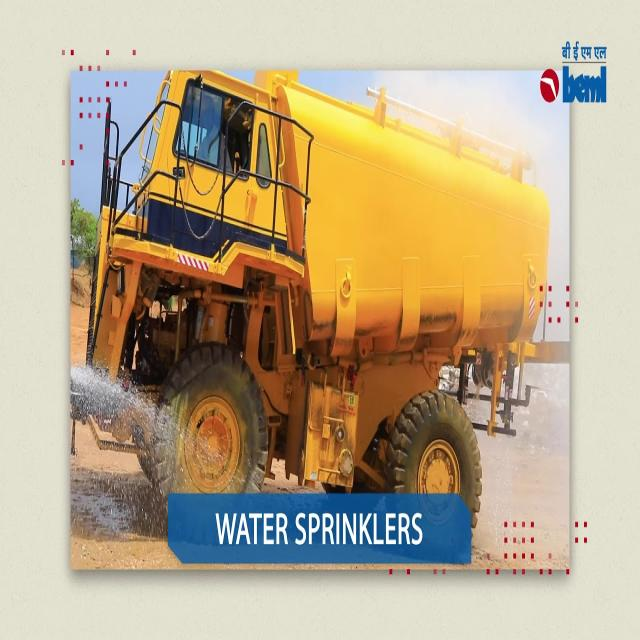dump_truck: (91, 72, 552, 580)
